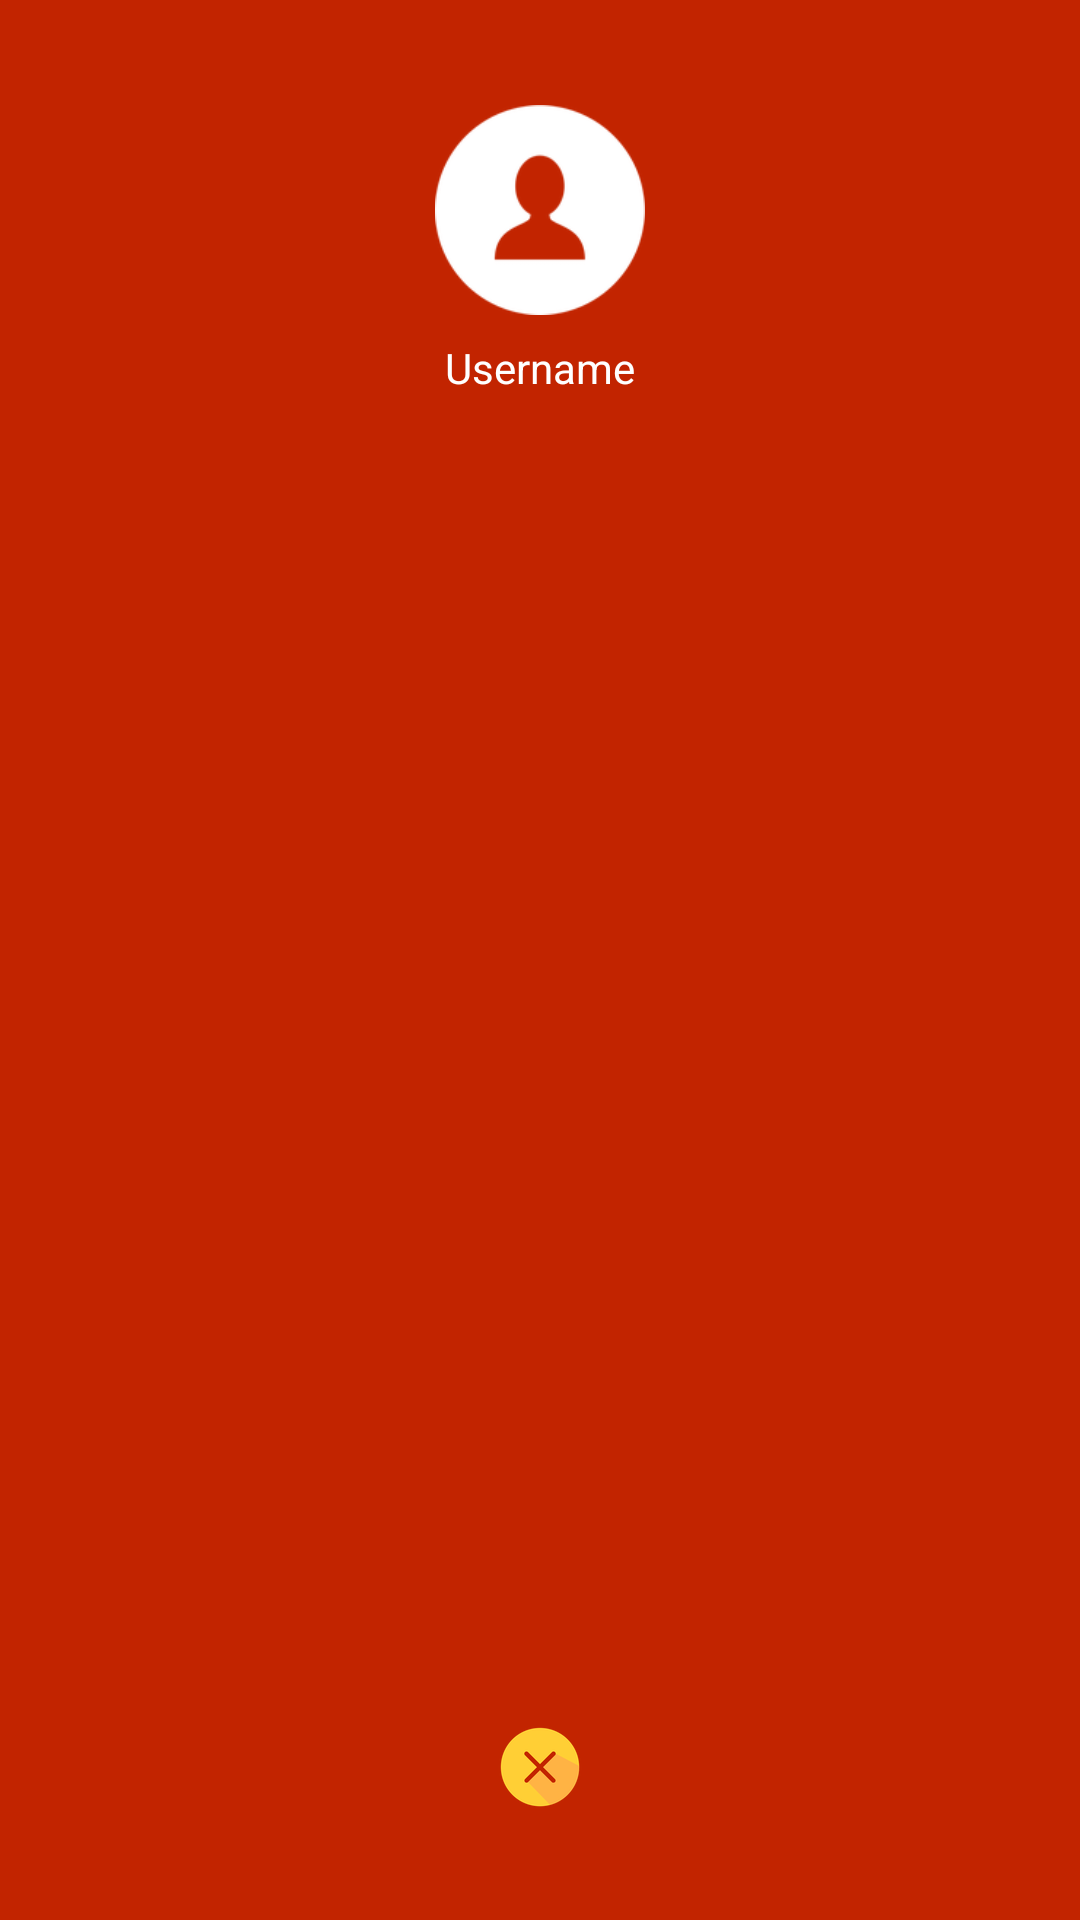

Icon bounding boxes for this 1080px x 1920px phone screenshot, format [x1=x1, y1=y1, x2=x2, y2=y2]:
close: [x1=500, y1=1728, x2=580, y2=1807]
profile: [x1=435, y1=105, x2=645, y2=315]
